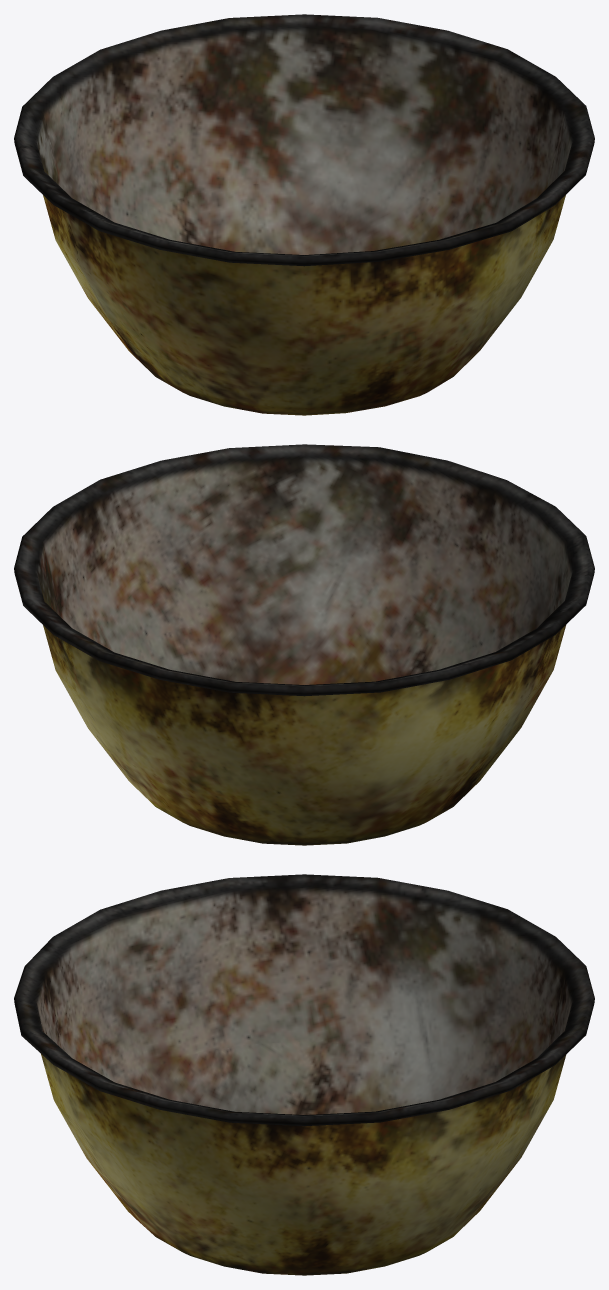
Rendered from UDKS_05.fbx.
3 views of the same model, one above another, from view 1: azimuth 30°, elevation 25°; view 2: azimuth 150°, elevation 25°; view 3: azimuth 270°, elevation 25° (orthographic).
Parts seen in each view (by area): view 1: UDKS_05; view 2: UDKS_05; view 3: UDKS_05.
Part boxes in pixels (box(x1,y1,x2,y2)): UDKS_05: box(14, 14, 594, 415); UDKS_05: box(14, 444, 594, 845); UDKS_05: box(14, 874, 594, 1275).
Bounding box in the file's own units: 33.85 × 13.62 × 33.85.
1 material, 1 textured.
